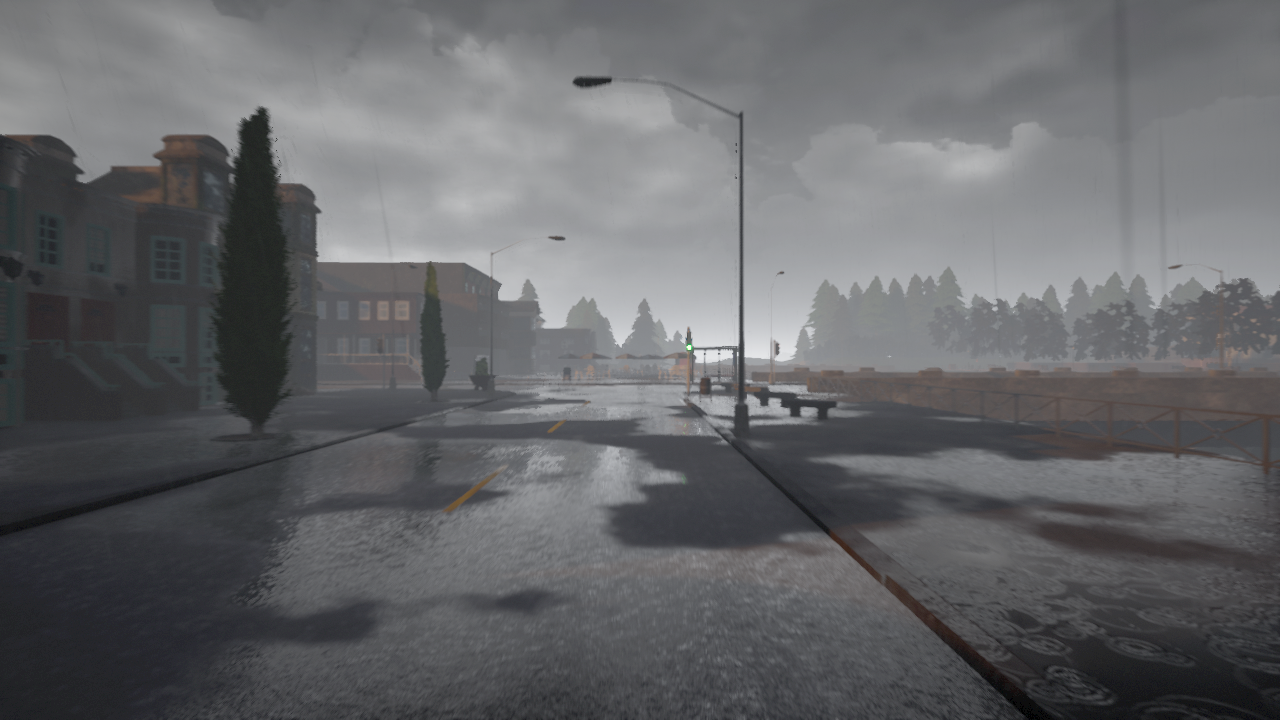green: (686, 331, 693, 351)
